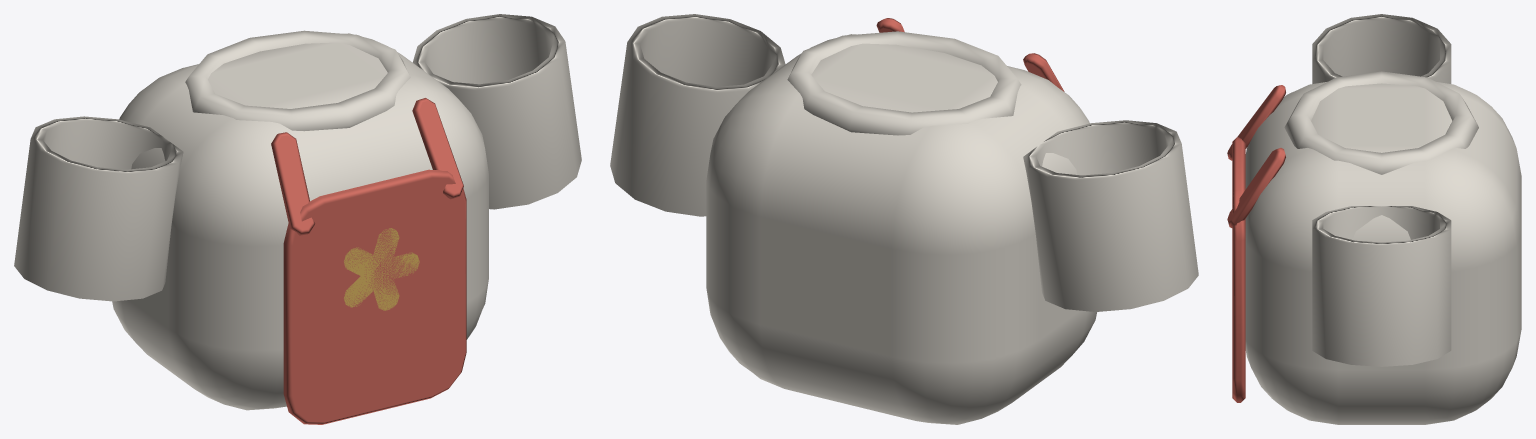
Rendered from cavalier_shirt.glb.
3 renders of one model, left to right at view 1: azimuth 30°, elevation 25°; view 2: azimuth 150°, elevation 25°; view 3: azimuth 270°, elevation 25°, orthographic. The views are drawn at different scales.
Visible parts, largest first — view 1: cavalier_shirt_Body, cavalier_shirt_ArmL, cavalier_shirt_ArmR; view 2: cavalier_shirt_Body, cavalier_shirt_ArmL, cavalier_shirt_ArmR; view 3: cavalier_shirt_Body, cavalier_shirt_ArmR, cavalier_shirt_ArmL.
Boxes of the visible parts, box(x1,y1,x2,y2) form: cavalier_shirt_Body: box(112, 30, 488, 424); cavalier_shirt_ArmL: box(14, 116, 183, 301); cavalier_shirt_ArmR: box(412, 14, 581, 209); cavalier_shirt_Body: box(706, 18, 1096, 424); cavalier_shirt_ArmL: box(1023, 120, 1198, 311); cavalier_shirt_ArmR: box(610, 14, 785, 216); cavalier_shirt_Body: box(1227, 71, 1521, 424); cavalier_shirt_ArmR: box(1312, 206, 1451, 366); cavalier_shirt_ArmL: box(1312, 14, 1451, 83).
Bounding box in the file's own units: 0.6053 × 0.3119 × 0.3051.
